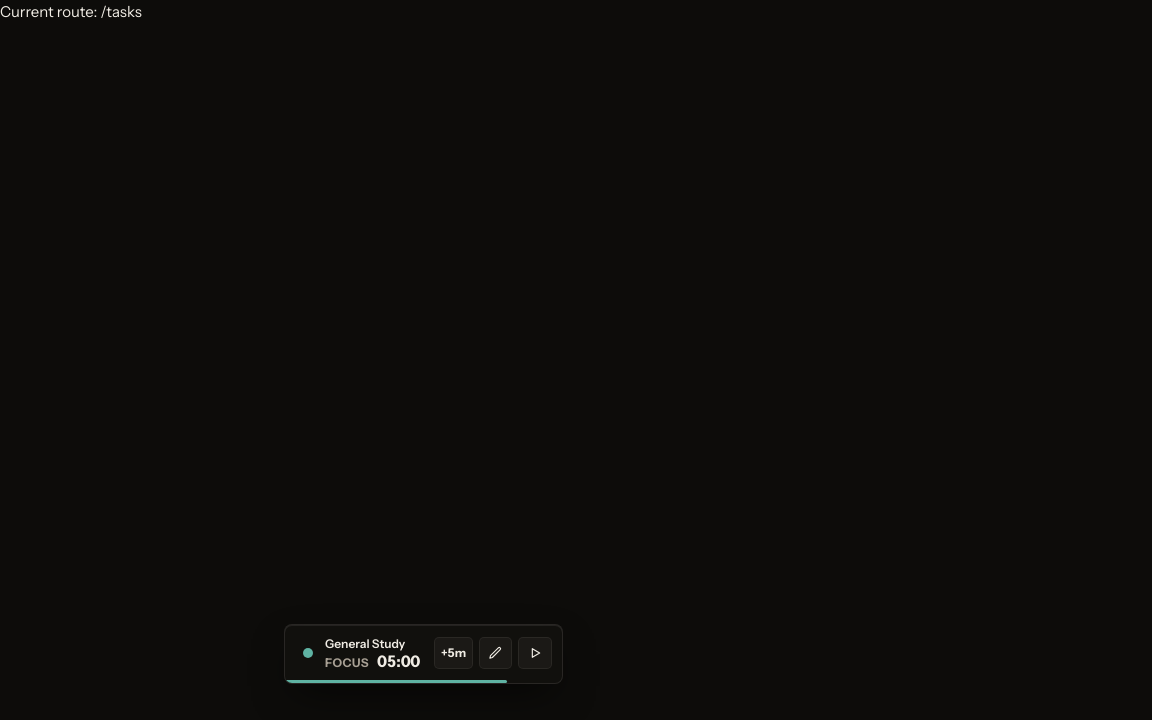
Test: FocusStudyHUD › Distraction Scratchpad › loads pre-existing note from localStorage on mount
The image size is (1152, 720).
Step 1. Click the button named "Distraction scratchpad" → (496, 653), box x1=479 y1=637 x2=512 y2=669
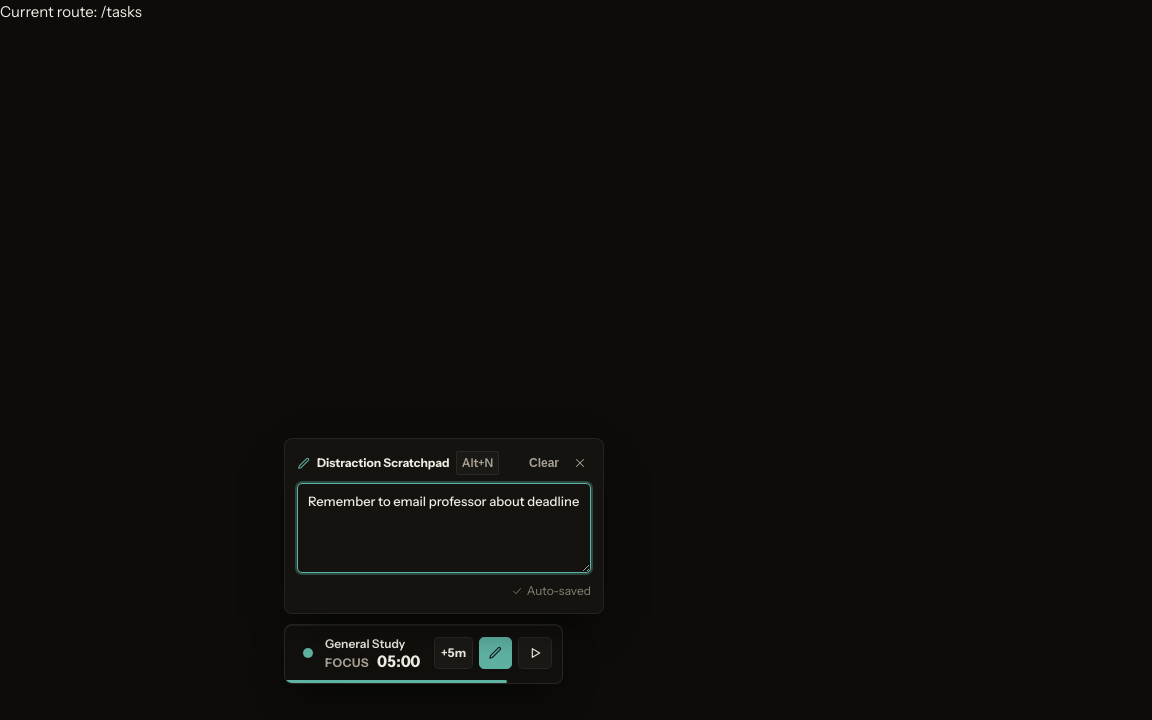
Expected: the text box named "Scratchpad notes" holds "Remember to email professor about deadline", x1=297 y1=483 x2=591 y2=574
